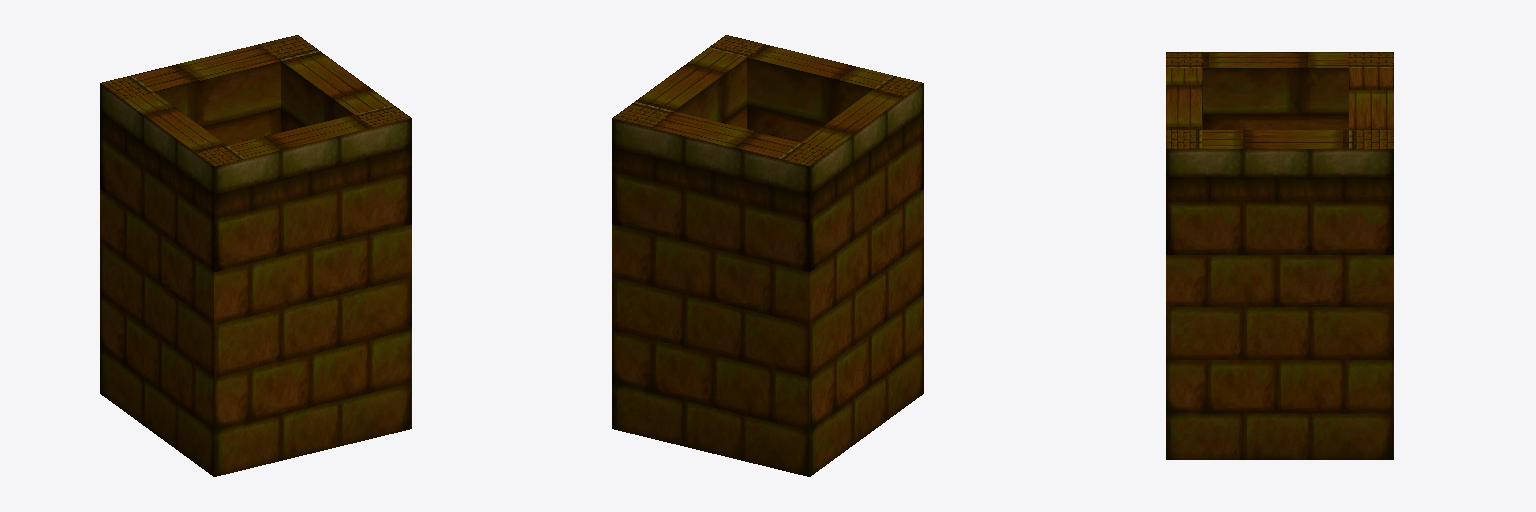
3 renders of one model, left to right at view 1: azimuth 30°, elevation 25°; view 2: azimuth 150°, elevation 25°; view 3: azimuth 270°, elevation 25°, orthographic.
Visible parts, largest first — view 1: Cube; view 2: Cube; view 3: Cube.
Boxes of the visible parts, <box> form: Cube: <box>100,35,411,476</box>; Cube: <box>612,35,923,476</box>; Cube: <box>1166,52,1393,459</box>.
Size of the model in its own units: 2 by 3 by 2.
2 materials, 1 textured.